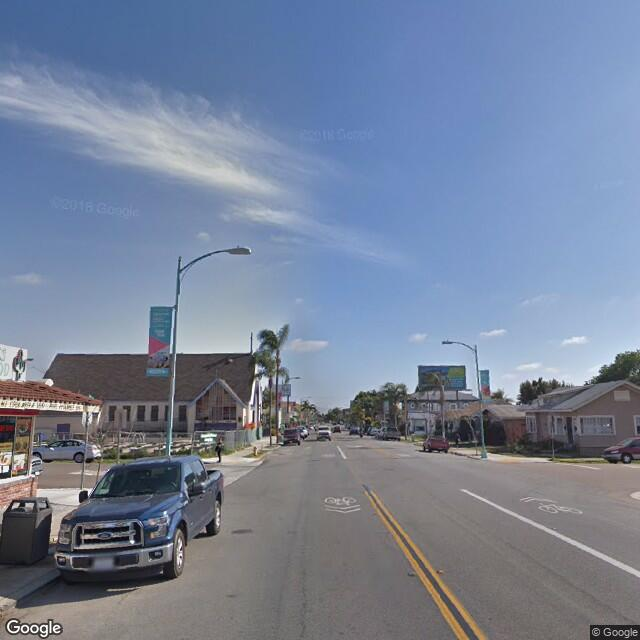light: (228, 243, 252, 257)
road line: (555, 518, 636, 575), (375, 491, 438, 560)
